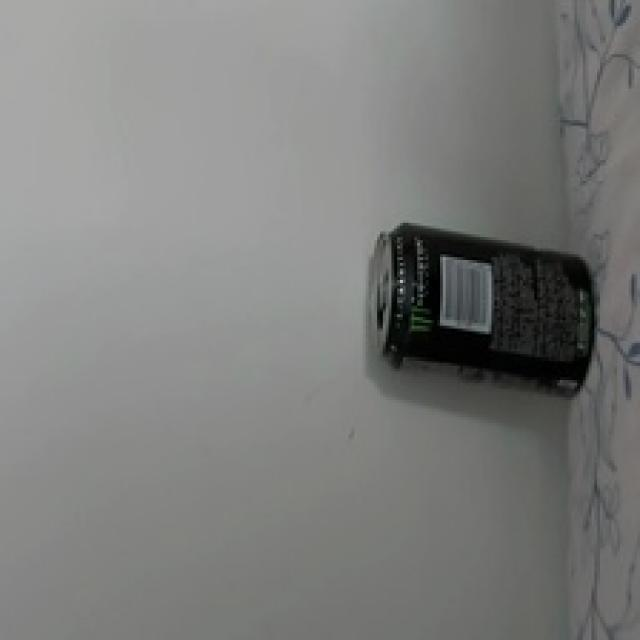recyclable: (368, 222, 598, 402)
